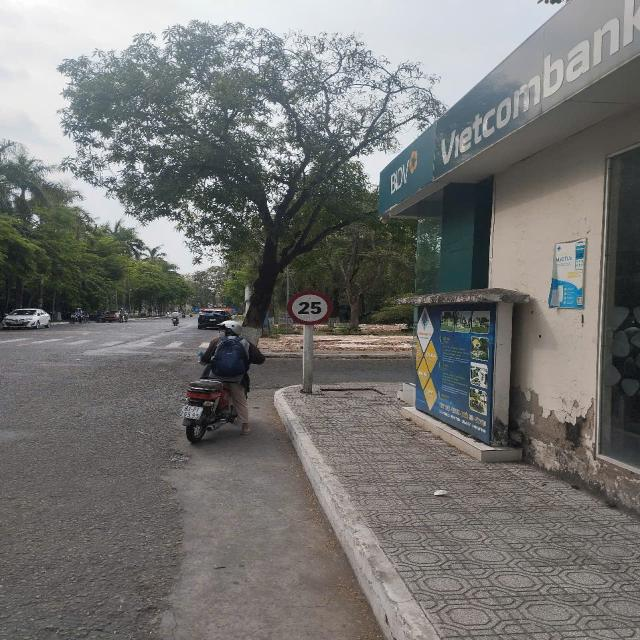Tre_Em: (287, 290, 333, 326)
